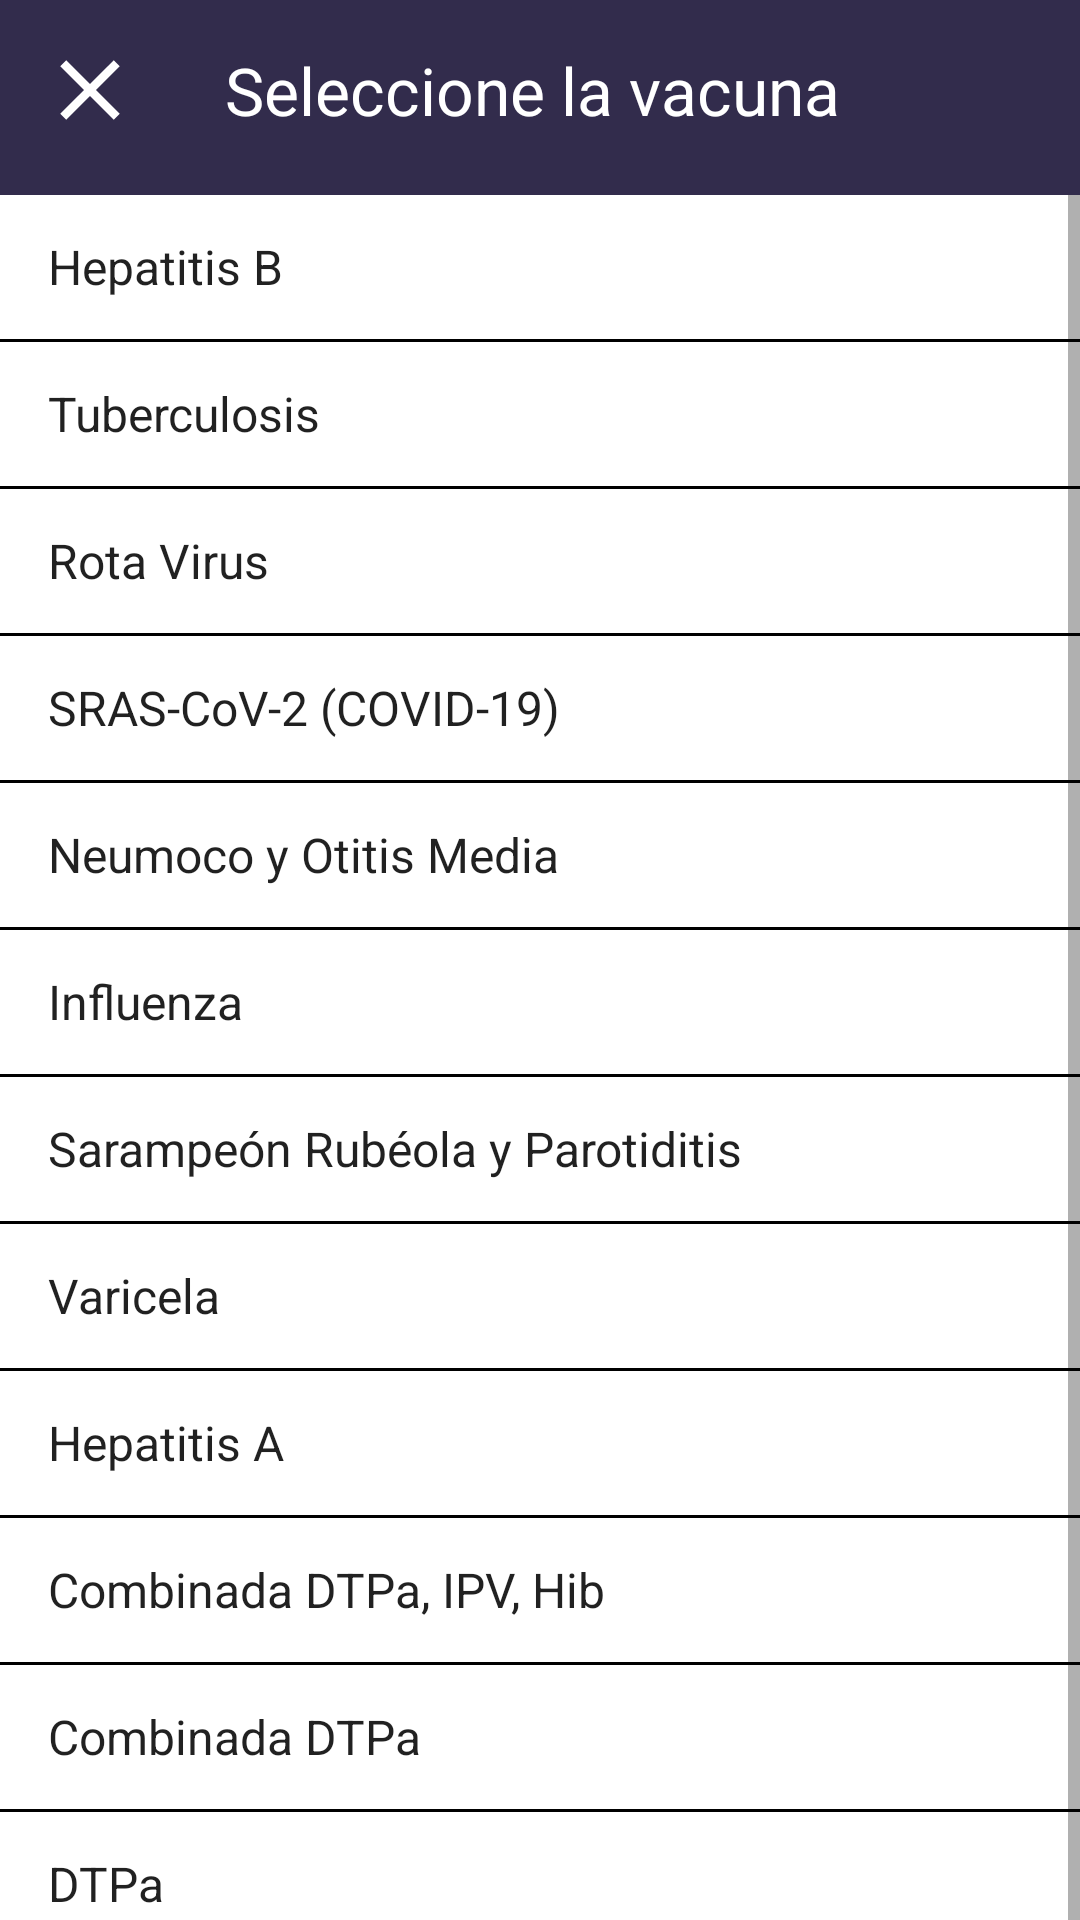

Named icons in this screenshot (1080x1920) and their bounding boxes, detection(x1, y1, x2, y2):
close: detection(60, 60, 120, 120)
